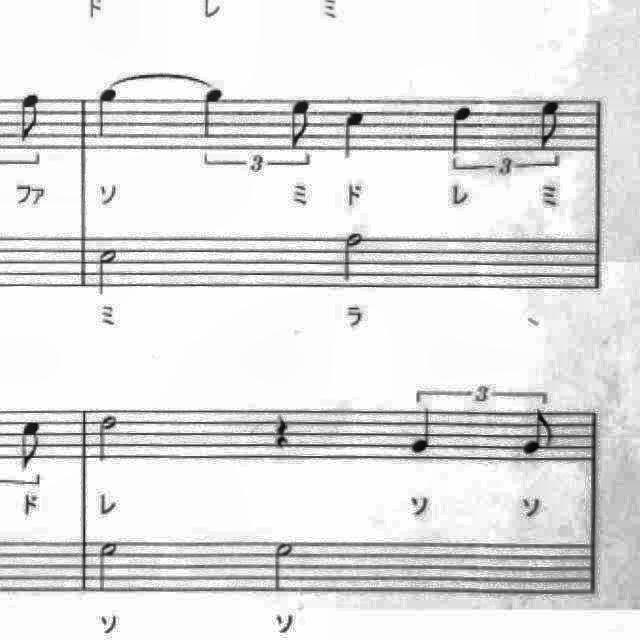Eighth-note: (516, 406, 558, 460), (282, 95, 318, 155), (15, 86, 50, 146), (532, 97, 568, 155), (15, 414, 49, 474)
Half-note: (267, 534, 305, 598), (336, 226, 372, 286), (91, 535, 125, 597), (90, 243, 126, 301), (92, 409, 124, 467)
Quarter-note: (89, 84, 127, 144), (336, 105, 372, 167), (444, 100, 480, 160), (406, 402, 442, 458), (197, 84, 230, 144)
Quarter-rest: (268, 406, 298, 454)
